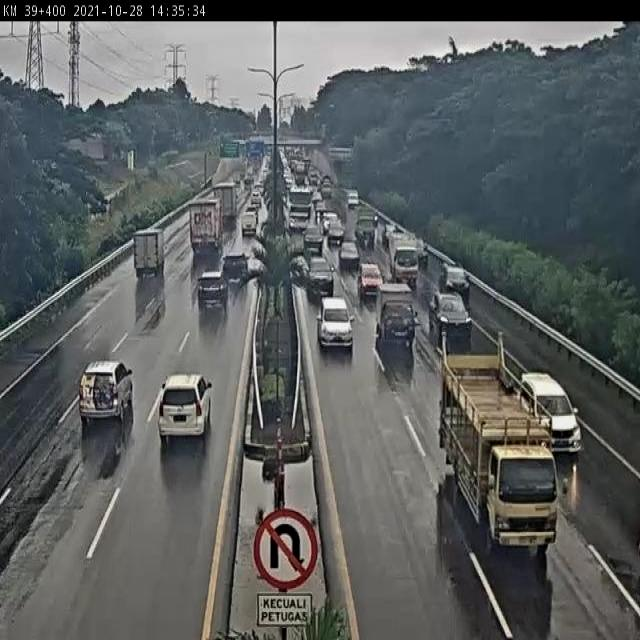Bus: (286, 184, 312, 233)
Car: (518, 372, 582, 453), (157, 374, 212, 445), (78, 359, 133, 429), (431, 291, 472, 346), (316, 296, 354, 355), (197, 270, 230, 314), (439, 262, 471, 304), (307, 256, 334, 299), (357, 263, 382, 302), (221, 252, 248, 286), (339, 240, 360, 271), (303, 222, 324, 253), (325, 219, 345, 247), (321, 211, 338, 234), (416, 237, 429, 265), (251, 188, 261, 206)
Truck: (434, 330, 568, 556), (374, 282, 418, 349), (188, 197, 224, 254), (133, 228, 167, 280), (388, 231, 420, 284), (213, 180, 239, 222), (354, 207, 376, 244), (345, 188, 360, 209), (230, 168, 240, 185)
Van: (240, 212, 257, 237)
